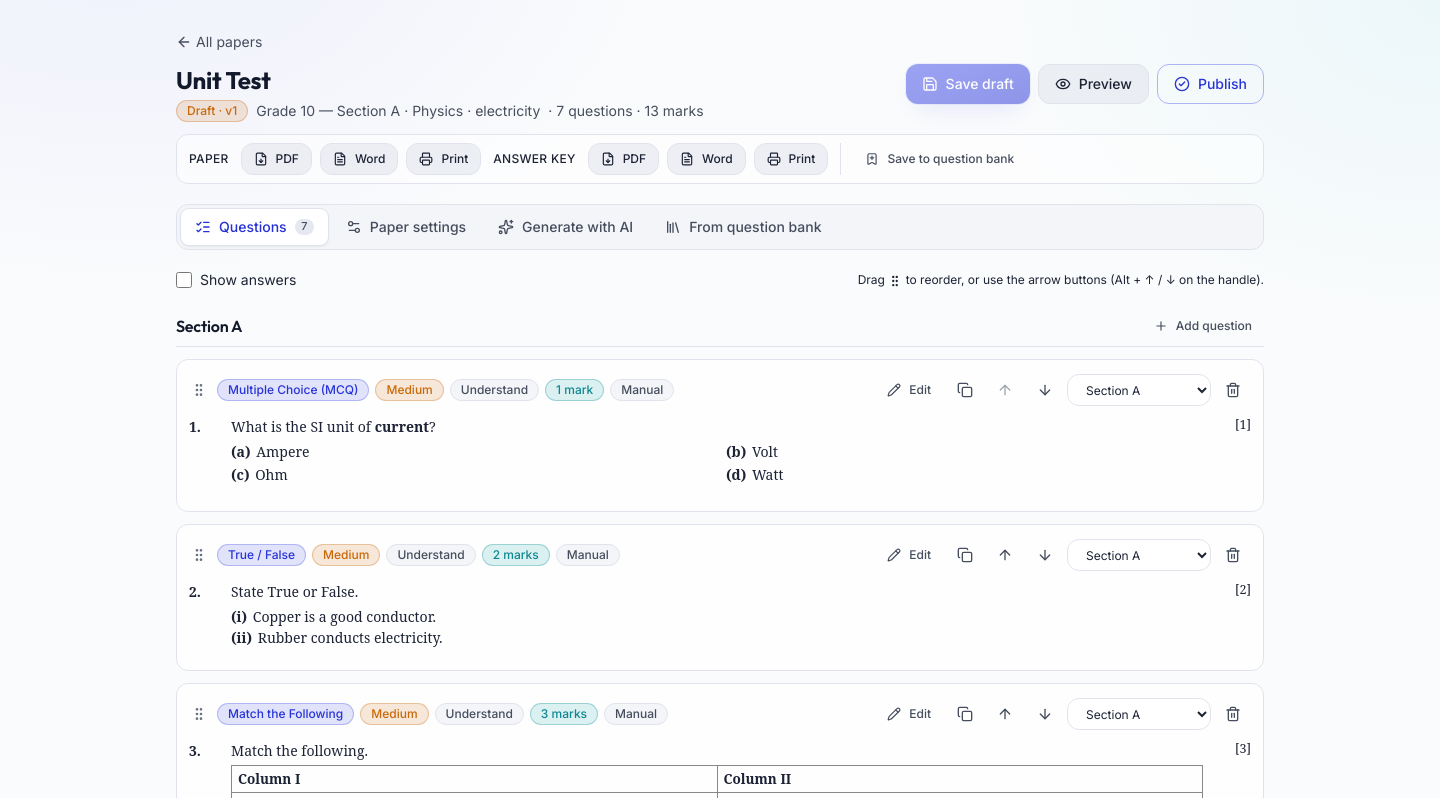
it: PaperEditor › opens the type-specific editor and blocks an invalid save
Step 1. Click the button "Edit" in the row of "Multiple Choice (MCQ)" → (909,390), box [875,374,943,406]
(page scrolled)
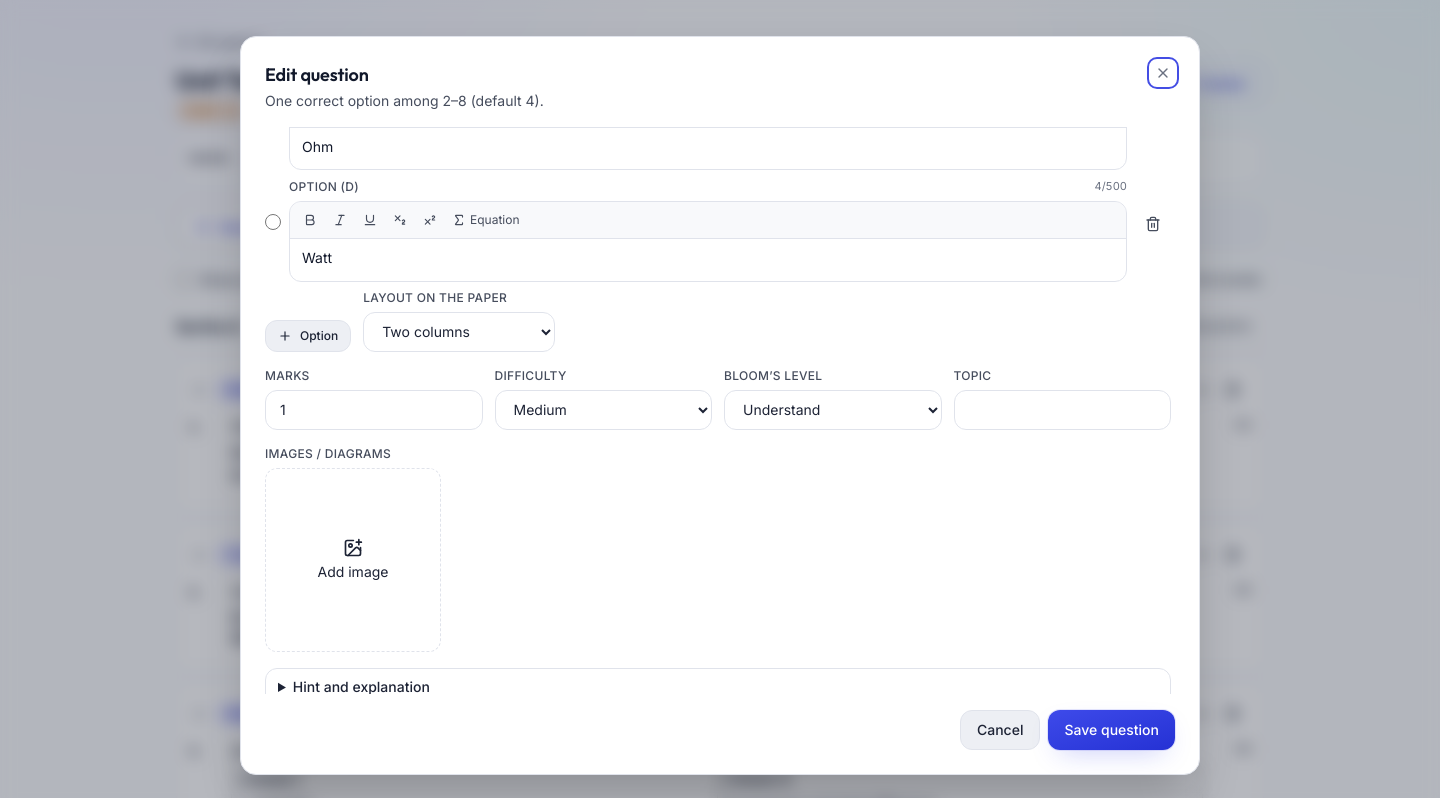
Step 2. Replace the text in the number field labelled "Marks" with "0" → (374,410), box [265,390,482,430]
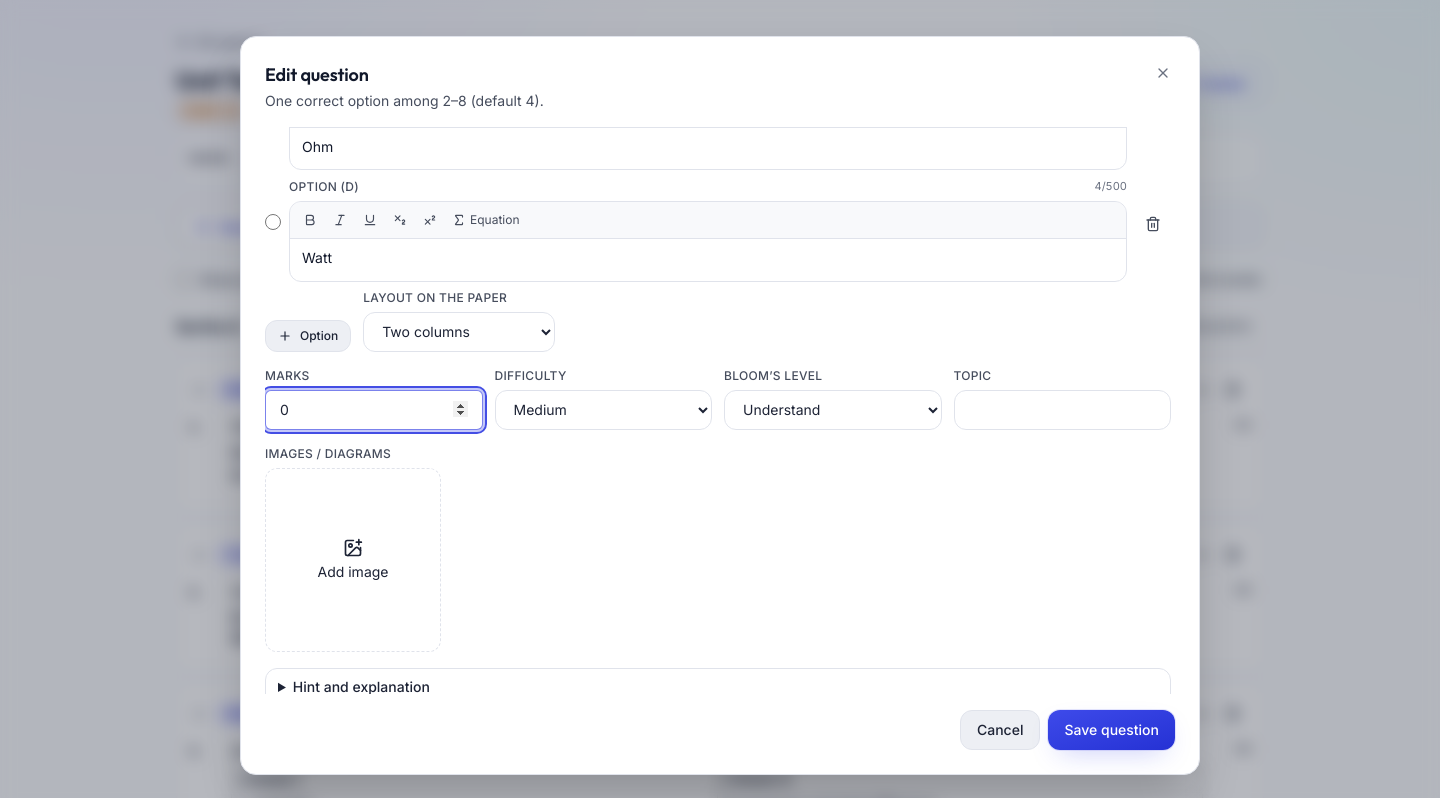
Step 3. Click the button "Save question" → (1112,730), box [1048,710,1175,750]
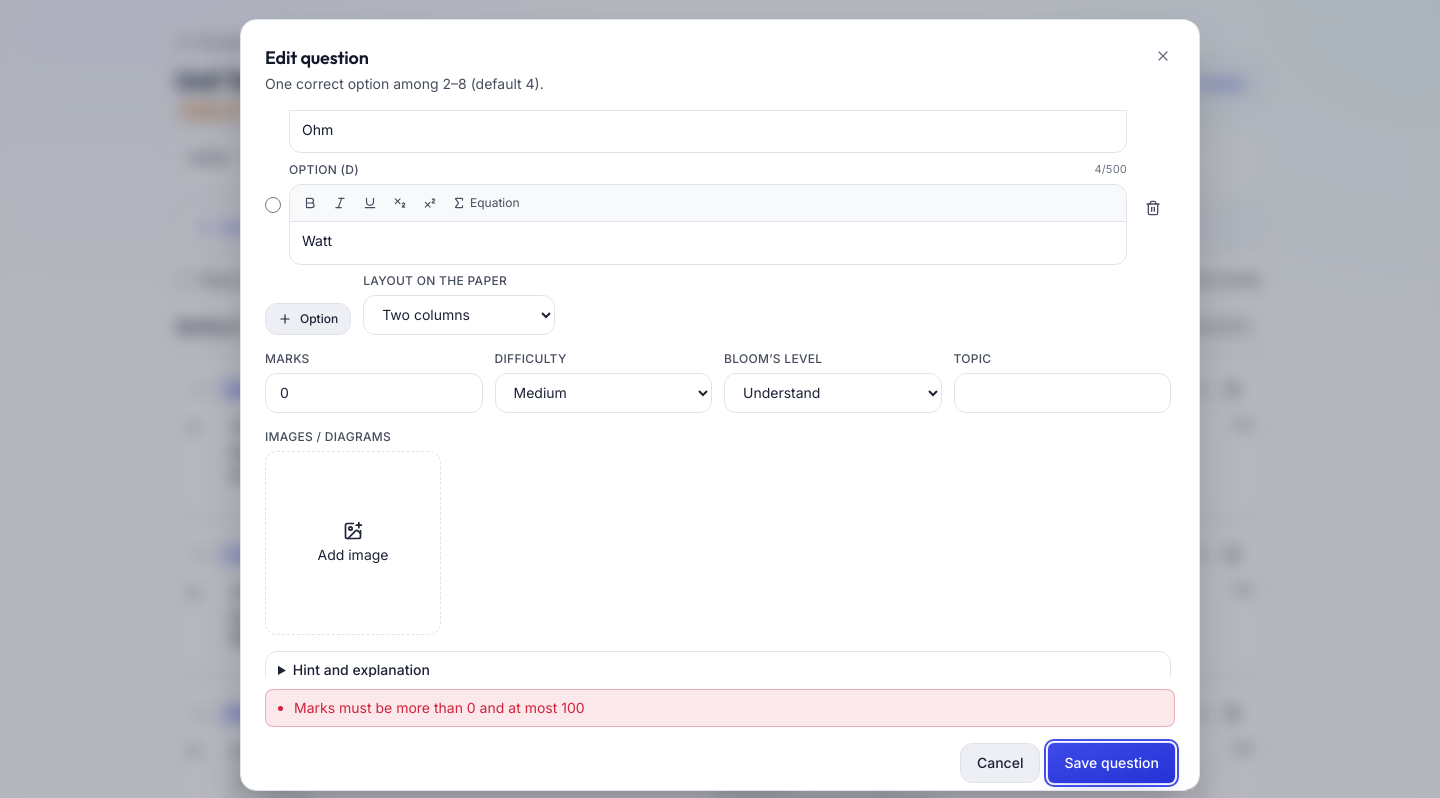
Check: the message shows "Marks must be more than 0", box [294,699,585,716]
